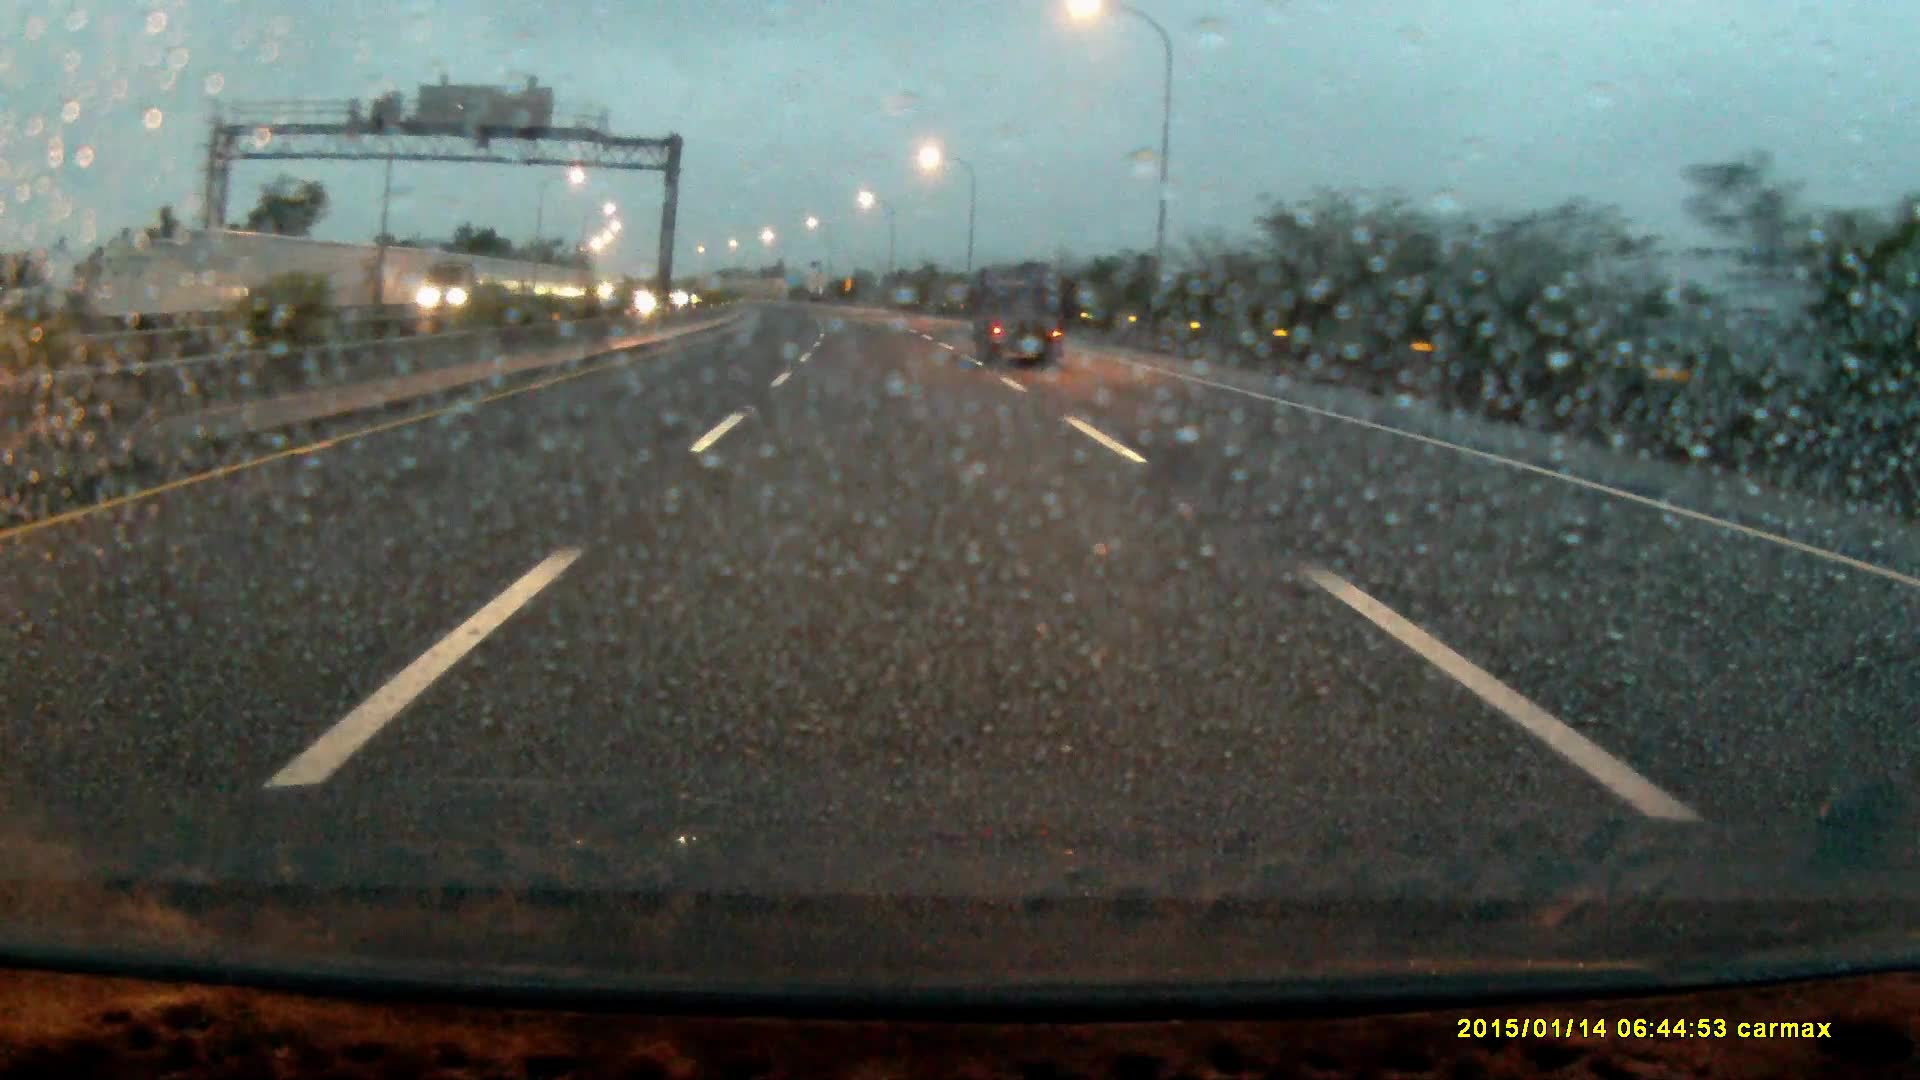vehicle: (976, 269, 1062, 365), (419, 256, 524, 316)
